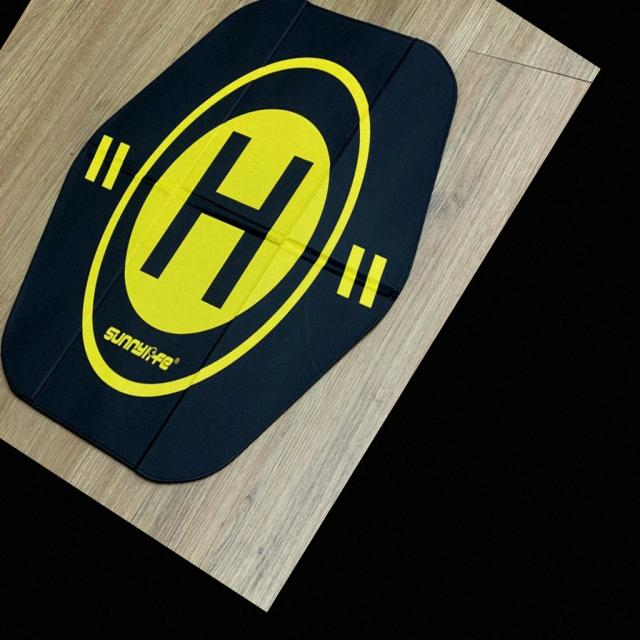helipad: (76, 52, 374, 400)
